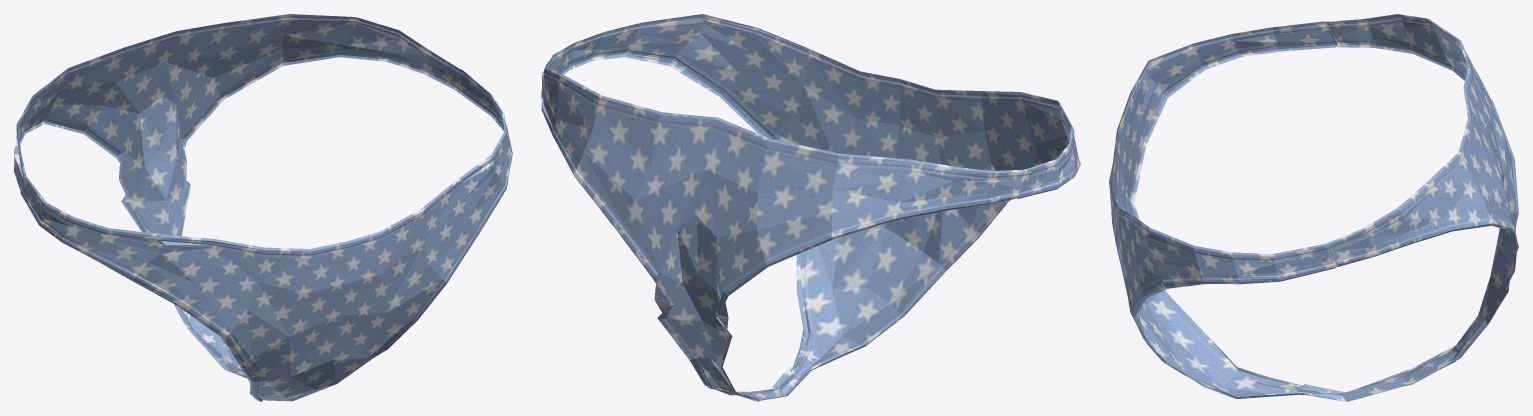
Rendered from mhw_wolgade_female_panties_01.glb.
3 renders of one model, left to right at view 1: azimuth 30°, elevation 25°; view 2: azimuth 150°, elevation 25°; view 3: azimuth 270°, elevation 25°, orthographic. The views are drawn at different scales.
Visible parts, largest first — view 1: mhw_wolgade_female_panties_01; view 2: mhw_wolgade_female_panties_01; view 3: mhw_wolgade_female_panties_01.
Part boxes in pixels (left/top/right/bottom): mhw_wolgade_female_panties_01: left=14, top=14, right=512, bottom=401; mhw_wolgade_female_panties_01: left=541, top=14, right=1080, bottom=401; mhw_wolgade_female_panties_01: left=1109, top=14, right=1518, bottom=401.
Size of the model in its own units: 0.3164 by 0.1978 by 0.2361.
1 material, 1 textured.
